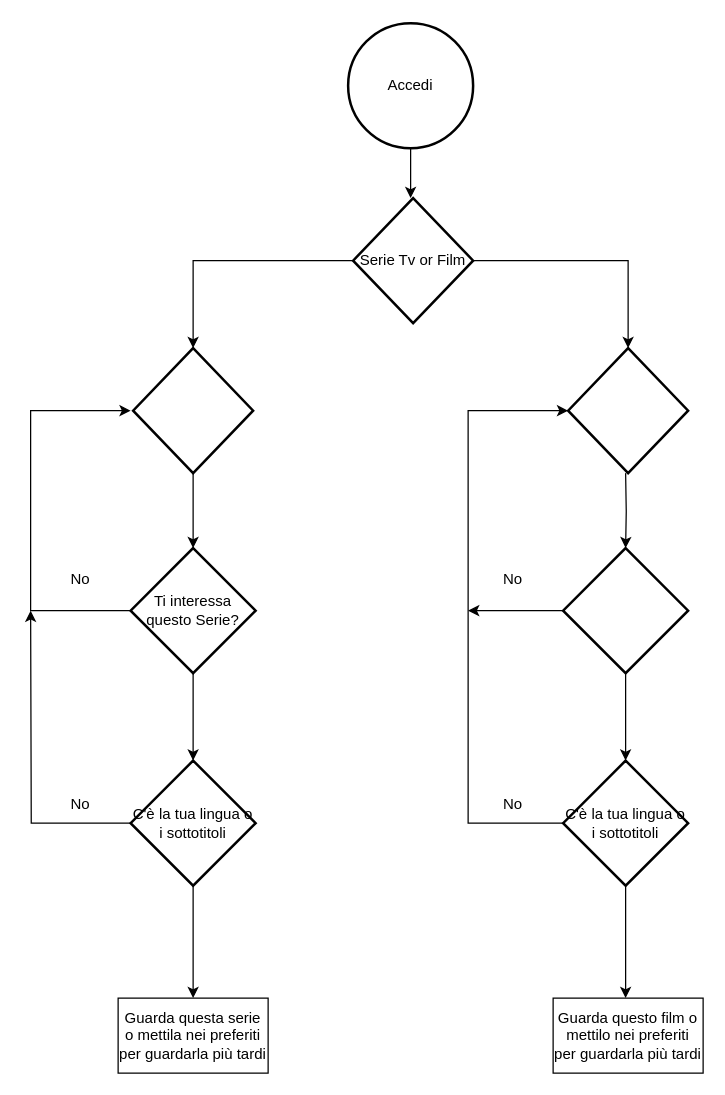
Some shapes in this 725 by 1095 pixel diagram are drawn without their labels. The centre of each missing label's shape, as x and y in pixels:
"Comico or Romantico" goes at point 192,410.
"Horror or Azione" goes at point 627,410.
"Ti interessa questo film?" goes at point 625,610.
